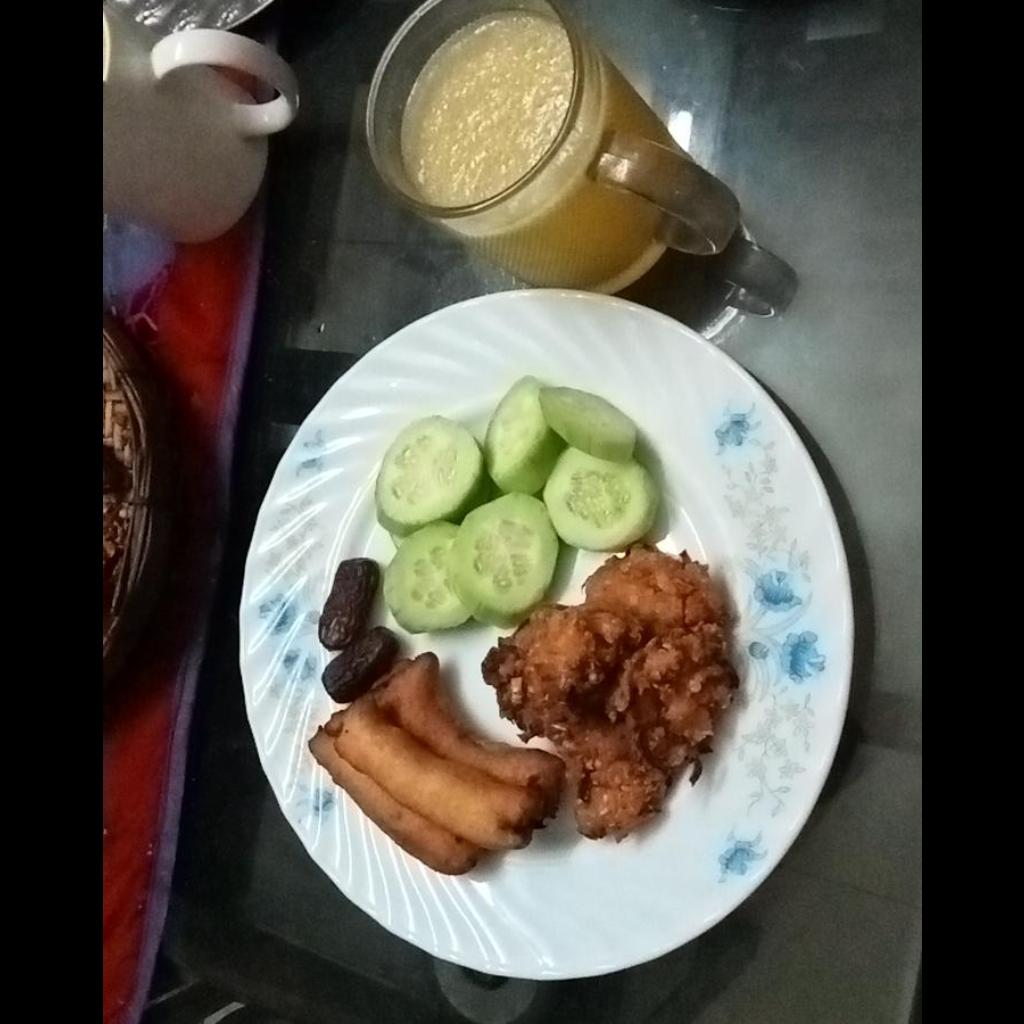beguni: (307, 652, 560, 873)
cucumber: (375, 380, 658, 634)
dates: (317, 558, 397, 697)
grapes: (398, 15, 570, 201)
peyaju: (483, 548, 742, 839)
